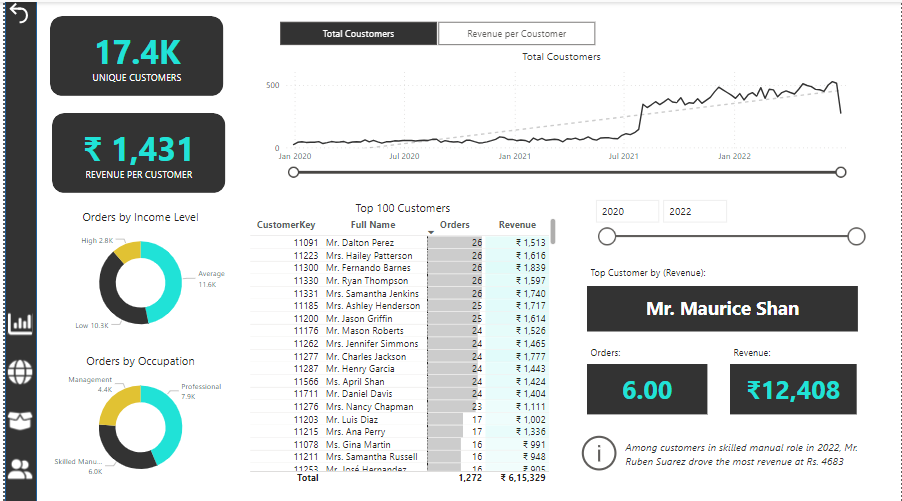

The dashboard page shown, as its layout file describes it:
{"tool":"powerbi","page":{"name":"Customer Detail","canvas":[1280,720],"ordinal":3},"visuals":[{"type":"shape","box":[0,0,45.6,720.6],"z":0},{"type":"shape","box":[66.7,163.8,247.8,114.5],"z":1000},{"type":"shape","box":[64.7,26.1,247.8,114.5],"z":2000},{"type":"card","fields":{"Values":["Measure Table.Total Coustomers"]},"box":[92.8,15.9,191.3,134.8],"z":3000},{"type":"card","fields":{"Values":["Measure Table.Average Revenue per Coustomer"]},"box":[95.7,153.6,191.3,134.8],"z":4000},{"type":"lineChart","fields":{"Y":["Measure Table.Total Coustomers"],"Category":["Calendar Lookup.Date Hierarchy.Year","Calendar Lookup.Date Hierarchy.Start of Month","Calendar Lookup.Date Hierarchy.Start of Week","Calendar Lookup.Date Hierarchy.Date"]},"box":[367.6,73.5,855.9,186.8],"z":5000},{"type":"donutChart","title":"Orders by Income Level","fields":{"Category":["Customer Lookup.Income Level"],"Y":["Measure Table.Total Orders"]},"box":[66.2,301.5,255.9,189.7],"z":6000},{"type":"donutChart","title":"Orders by Occupation","fields":{"Y":["Measure Table.Total Orders"],"Category":["Customer Lookup.Occupation"]},"box":[66.2,507.4,255.9,191.2],"z":7000},{"type":"tableEx","title":"Top 100 Customers","fields":{"Values":["Customer Lookup.CustomerKey","Customer Lookup.Full Name","Measure Table.Total Orders","Measure Table.Total Revenue"]},"box":[344.1,288.2,448,410.3],"z":8000},{"type":"card","fields":{"Values":["Measure Table.Total Revenue (Customer Detail)"]},"box":[1035.3,523.5,180.9,72.1],"z":9000},{"type":"card","fields":{"Values":["Customer Lookup.Full Name (Customer Detail)"]},"box":[830.9,411.8,386.8,64.7],"z":10000},{"type":"card","fields":{"Values":["Measure Table.Total Orders (Customer Detail)"]},"box":[830.9,523.5,172.1,72.1],"z":11000},{"type":"textbox","box":[830.9,379.1,204.4,41.2],"z":12000},{"type":"textbox","box":[1035.3,492.6,104.4,41.2],"z":13000},{"type":"textbox","box":[830.9,492.6,119.1,30.9],"z":14000},{"type":"slicer","fields":{"Values":["Calendar Lookup.Year"]},"box":[830.9,277.9,405.9,91.2],"z":15000},{"type":"actionButton","box":[817.6,619.1,405.9,63.2],"z":16000},{"type":"actionButton","box":[0,1.5,45.6,39.7],"z":17000},{"type":"actionButton","box":[0,444.1,43,43],"z":18000,"group":"g1"},{"type":"group","id":"g1","title":"Navigation Button","box":[0,444.1,43,250.4],"z":18000},{"type":"slicer","fields":{"Values":["Customer Metric Selection.Customer Metric Selection"]},"box":[367.6,26.5,500,47.1],"z":19000},{"type":"actionButton","box":[0,651.5,43,43],"z":19000,"group":"g1"},{"type":"actionButton","box":[0,513.2,43,43],"z":20000,"group":"g1"},{"type":"actionButton","box":[0,582.3,43,43],"z":21000,"group":"g1"}]}

Visuals, with their boxes on the page's 1280x720 design canvas (x1, y1, x2, y2). These are canvas units, not pixel positions in the 902x501 screenshot, which may show the page scaled, cropped or inside an application window:
shape: 0 0 46 721
shape: 67 164 314 278
shape: 65 26 312 141
card - Measure Table.Total Coustomers: 93 16 284 151
card - Measure Table.Average Revenue per Coustomer: 96 154 287 288
lineChart - Measure Table.Total Coustomers x Calendar Lookup.Date Hierarchy.Year: 368 74 1224 260
"Orders by Income Level" donutChart: 66 302 322 491
"Orders by Occupation" donutChart: 66 507 322 699
"Top 100 Customers" tableEx: 344 288 792 698
card - Measure Table.Total Revenue (Customer Detail): 1035 524 1216 596
card - Customer Lookup.Full Name (Customer Detail): 831 412 1218 476
card - Measure Table.Total Orders (Customer Detail): 831 524 1003 596
textbox: 831 379 1035 420
textbox: 1035 493 1140 534
textbox: 831 493 950 524
slicer - Calendar Lookup.Year: 831 278 1237 369
actionButton: 818 619 1224 682
actionButton: 0 2 46 41
actionButton: 0 444 43 487
"Navigation Button" group: 0 444 43 694
slicer - Customer Metric Selection.Customer Metric Selection: 368 26 868 74
actionButton: 0 652 43 694
actionButton: 0 513 43 556
actionButton: 0 582 43 625
